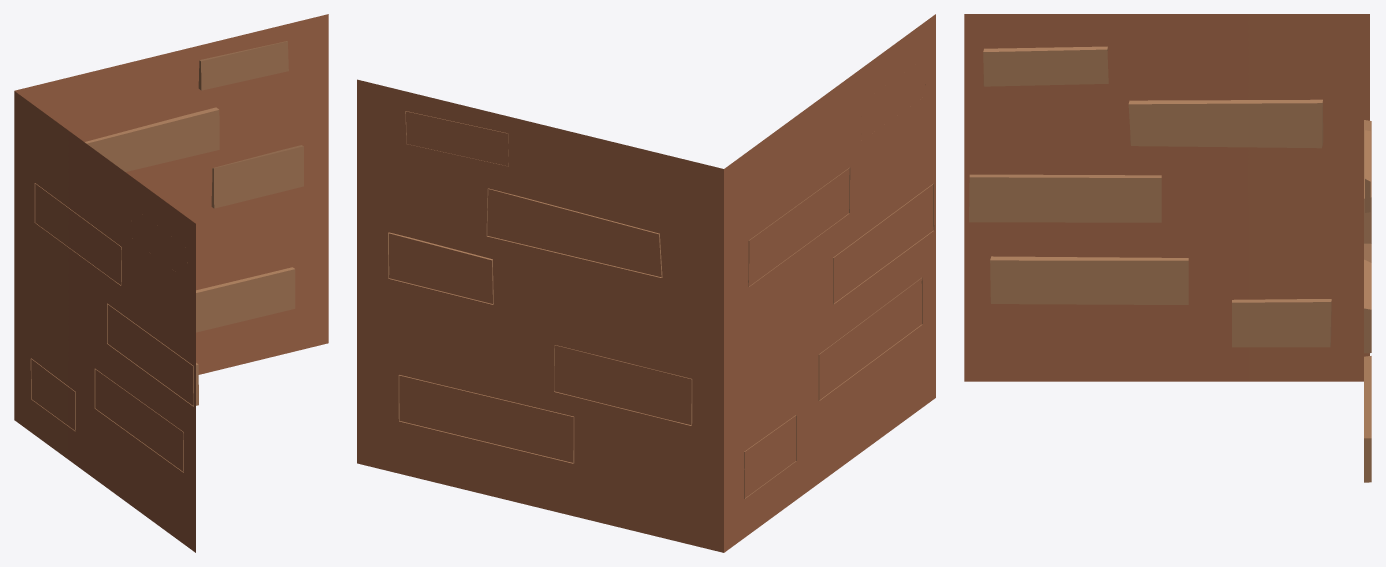
File: Ext-BrickV3CornerHalfWall-Inv.fbx
3 renders of one model, left to right at view 1: azimuth 30°, elevation 25°; view 2: azimuth 150°, elevation 25°; view 3: azimuth 270°, elevation 25°, orthographic. The views are drawn at different scales.
Visible parts, largest first — view 1: Ext-BrickV3CornerHalfWall-Inv; view 2: Ext-BrickV3CornerHalfWall-Inv; view 3: Ext-BrickV3CornerHalfWall-Inv.
Boxes of the visible parts, <box> form: Ext-BrickV3CornerHalfWall-Inv: <box>14,14,328,552</box>; Ext-BrickV3CornerHalfWall-Inv: <box>357,14,935,552</box>; Ext-BrickV3CornerHalfWall-Inv: <box>964,14,1371,482</box>.
Bounding box in the file's own units: 100 × 100 × 100.
